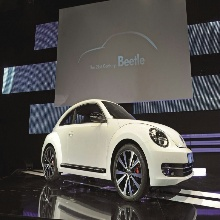no damage: (41, 99, 196, 201)
